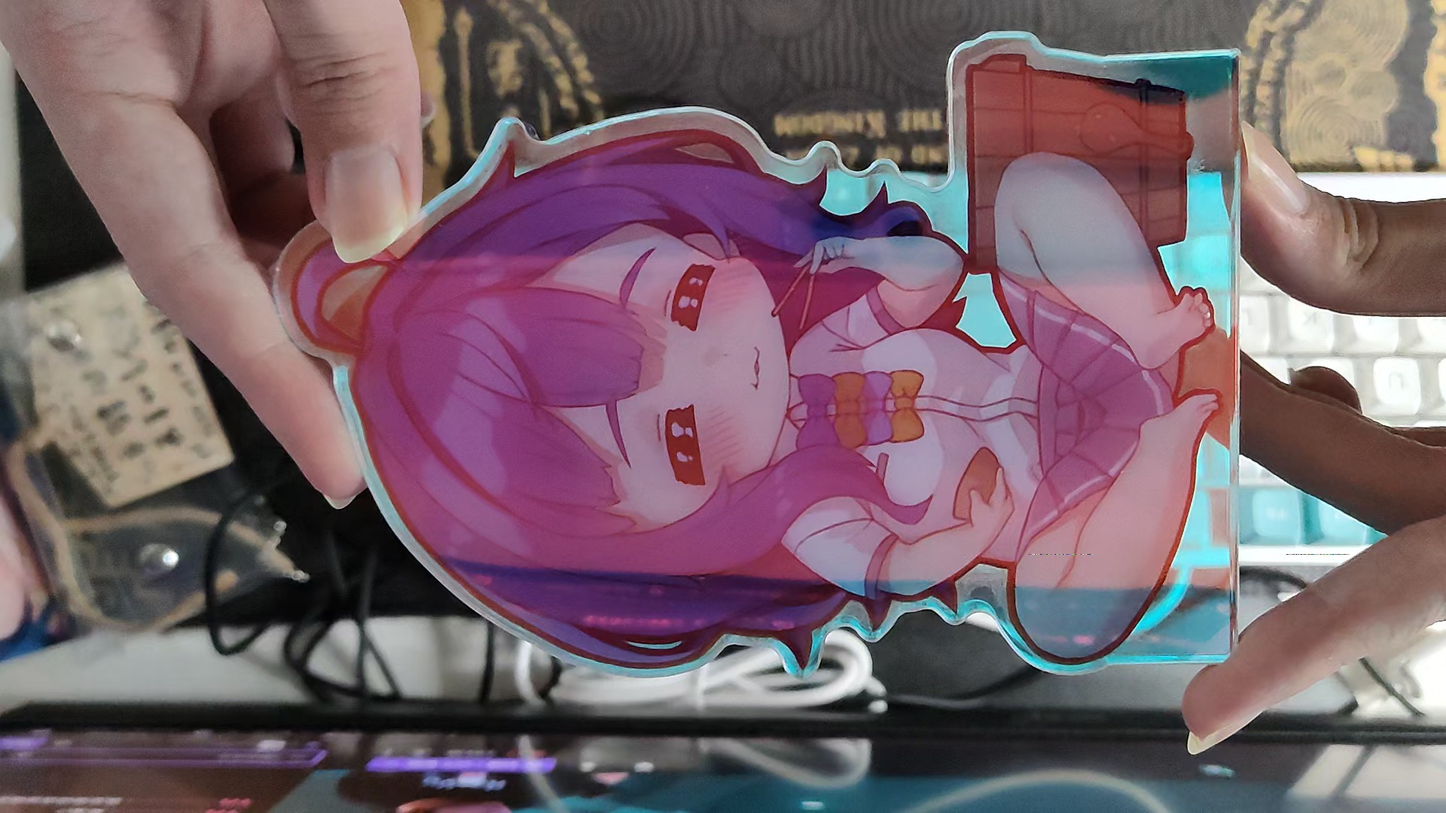Yanami-anna: (276, 32, 1240, 676)
